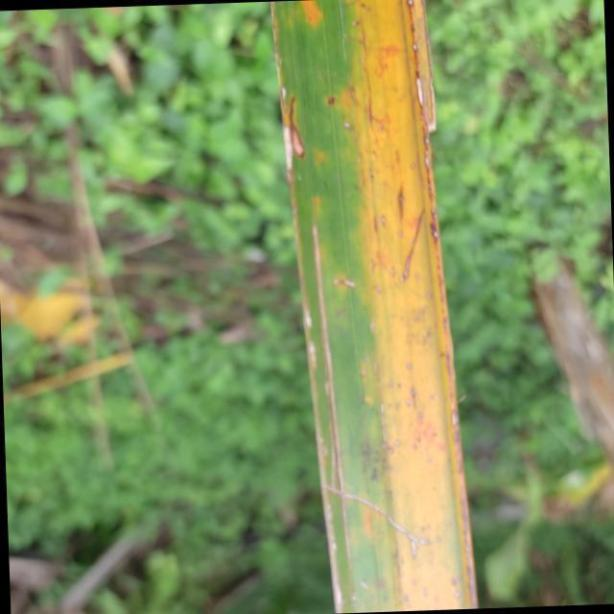Megnesium: (267, 0, 481, 614)
